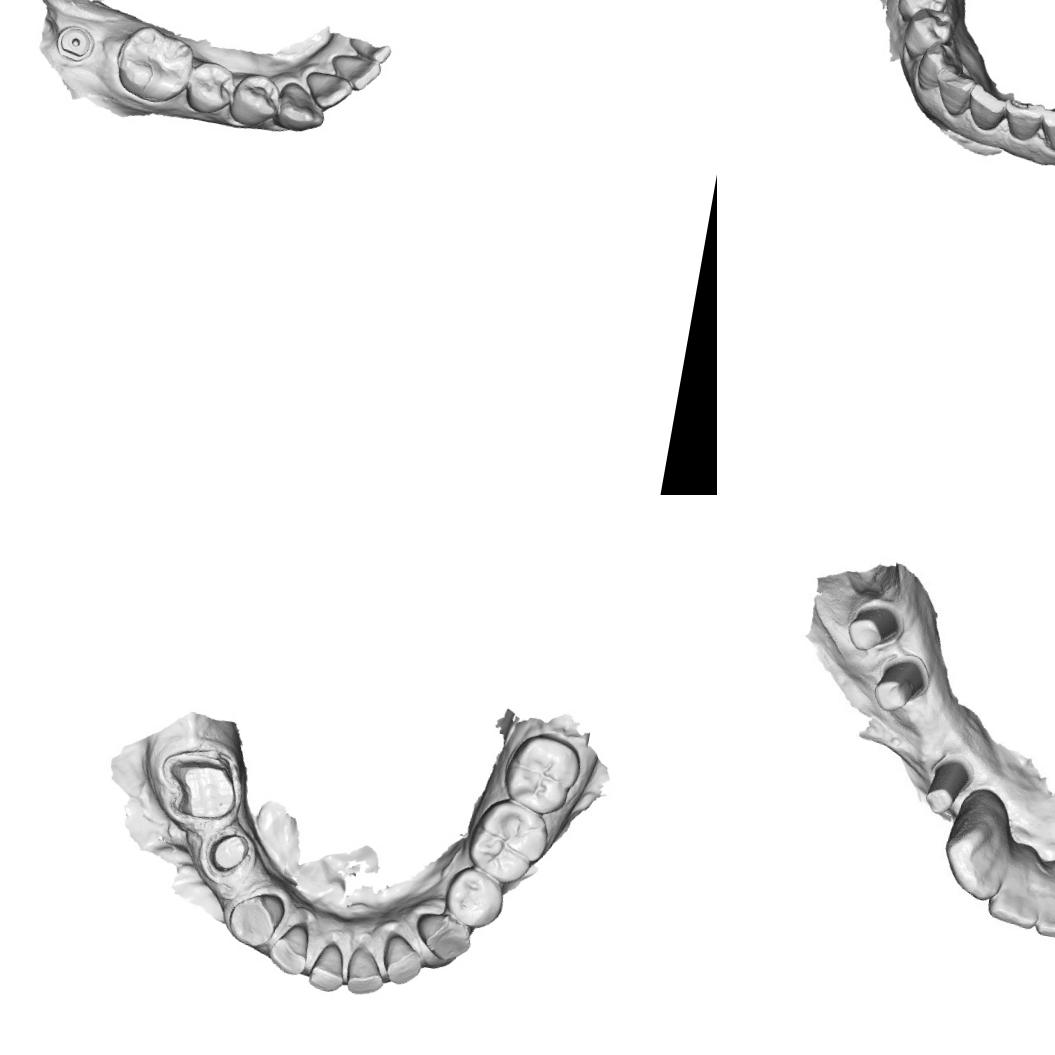abutment: (838, 593, 908, 664), (864, 650, 930, 723), (916, 750, 972, 818)
canine: (939, 784, 1022, 902), (222, 884, 287, 952), (408, 906, 478, 968), (270, 78, 330, 136), (912, 34, 967, 96)
crown: (154, 742, 250, 832), (203, 827, 257, 876)
implant: (52, 20, 98, 65)
incisor: (982, 836, 1054, 934), (262, 915, 315, 978), (376, 929, 428, 989), (303, 936, 353, 996), (342, 940, 391, 1000), (299, 67, 356, 115), (324, 51, 384, 96), (928, 66, 978, 120), (962, 80, 1010, 134), (998, 95, 1048, 144), (1027, 858, 1055, 944), (340, 36, 392, 65), (1036, 99, 1055, 156)
molar: (460, 791, 556, 890), (497, 724, 586, 820), (108, 18, 200, 109)
premolar: (437, 860, 509, 932), (224, 68, 284, 134), (181, 55, 238, 119), (900, 3, 958, 56), (896, 0, 951, 21)
